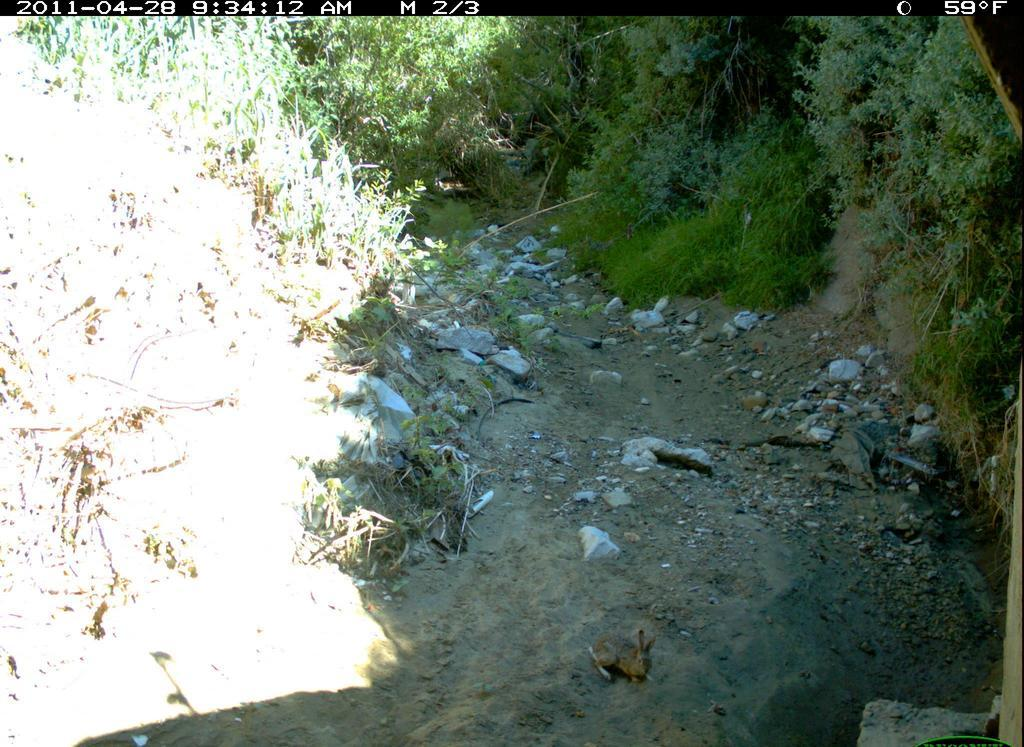rabbit: (583, 617, 665, 692)
